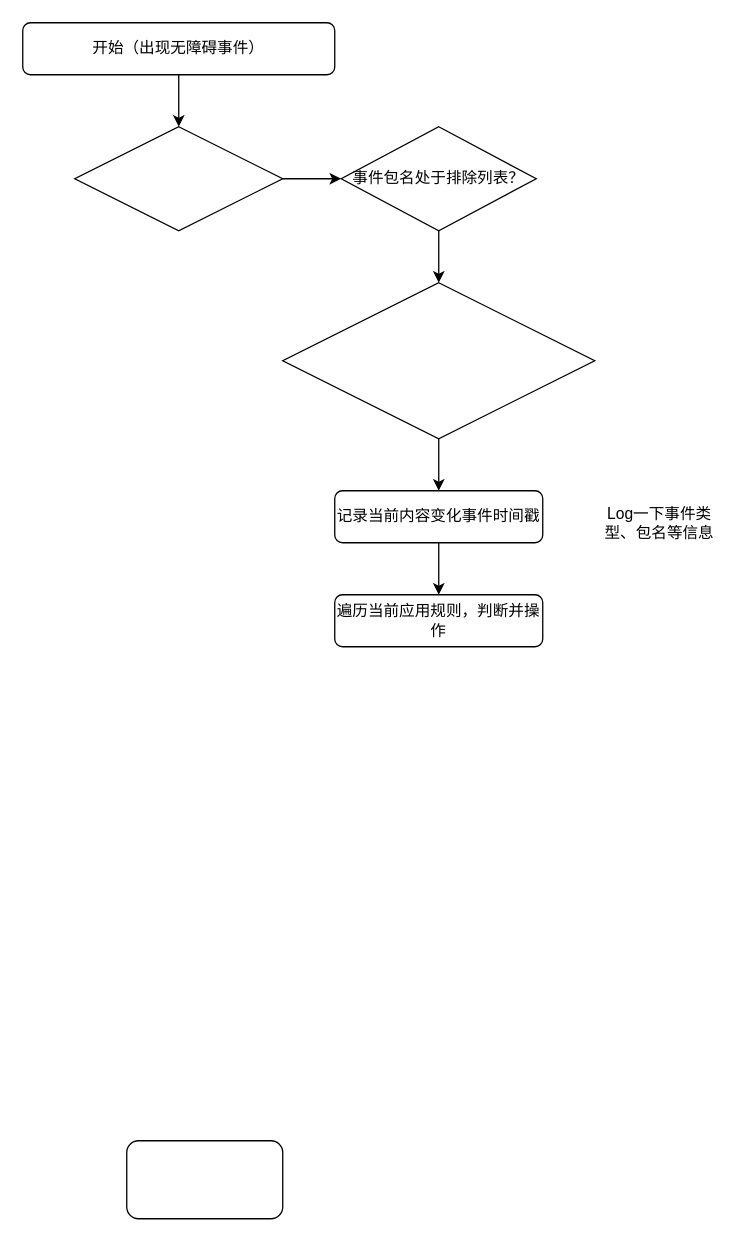
This 748x1242 diagram has some shape labels left out. The shapes that lost their labels are listed below. From the top down, each one's centre as x and y in pixels, then its label:
At [178,178]: "事件类型为页面内容变化？".
At [438,360]: "距离上次内容变化事件<100ms或 距离上次应用变化事件>5000ms或 距离上次触发时间>3000ms".
